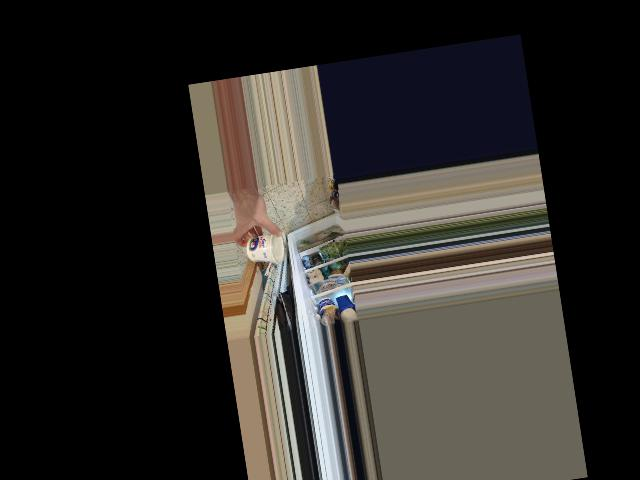cotage: (243, 229, 287, 266)
